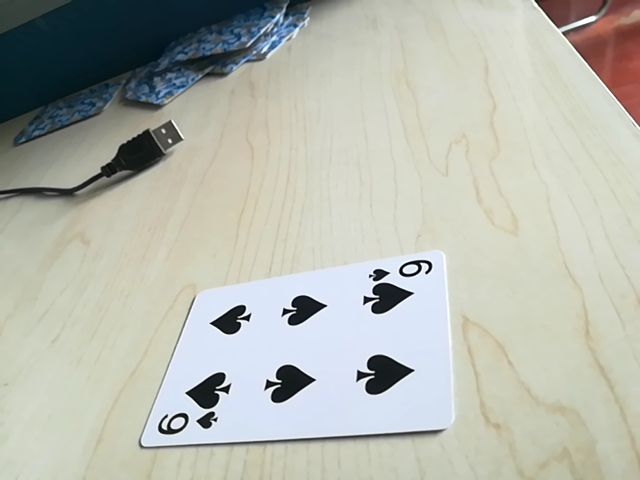ht 6: (149, 407, 223, 443), (370, 257, 437, 286)
